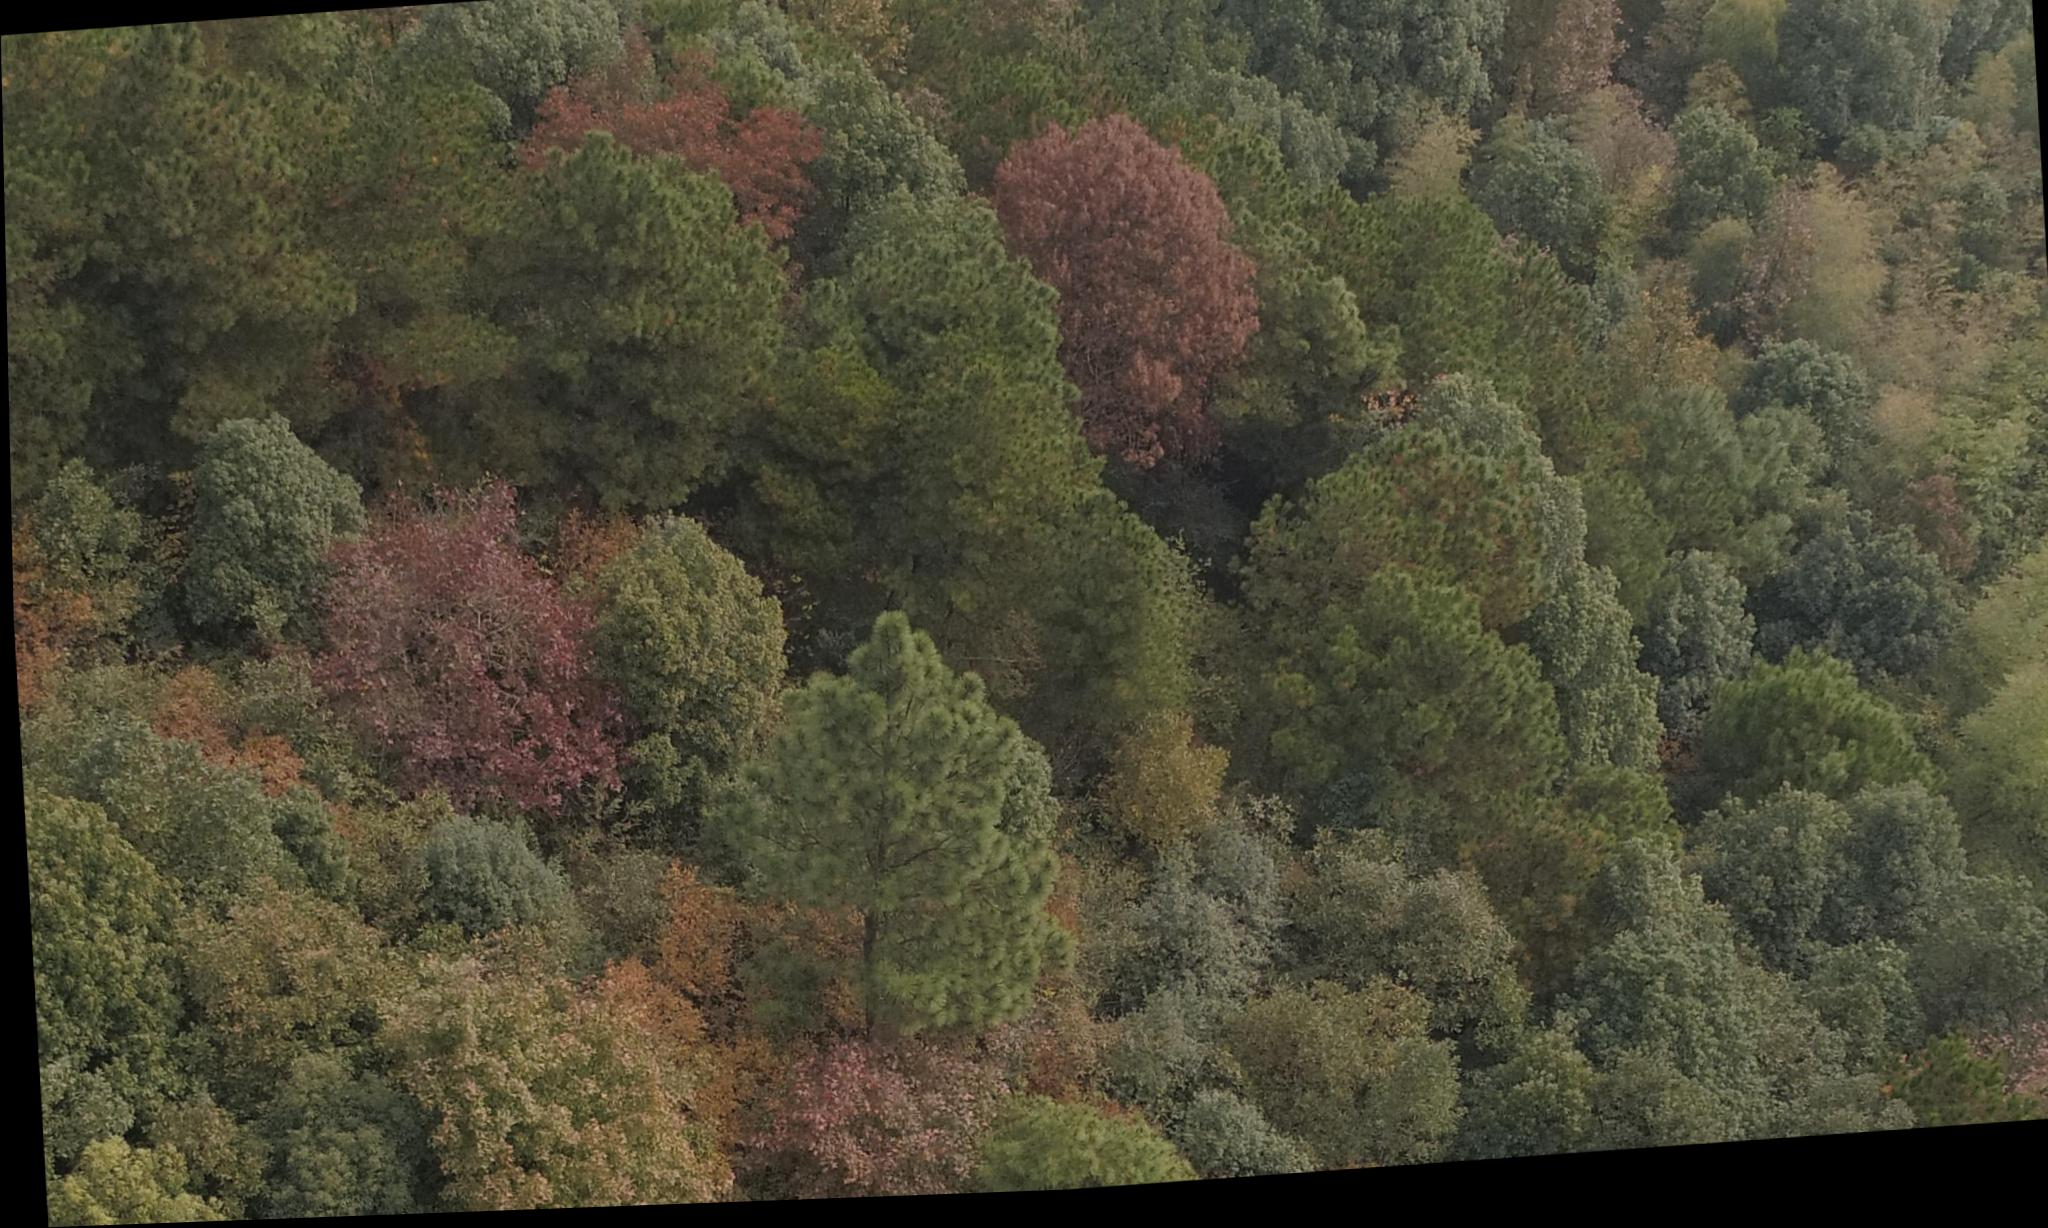heavy: (971, 92, 1272, 518), (498, 13, 827, 282)
